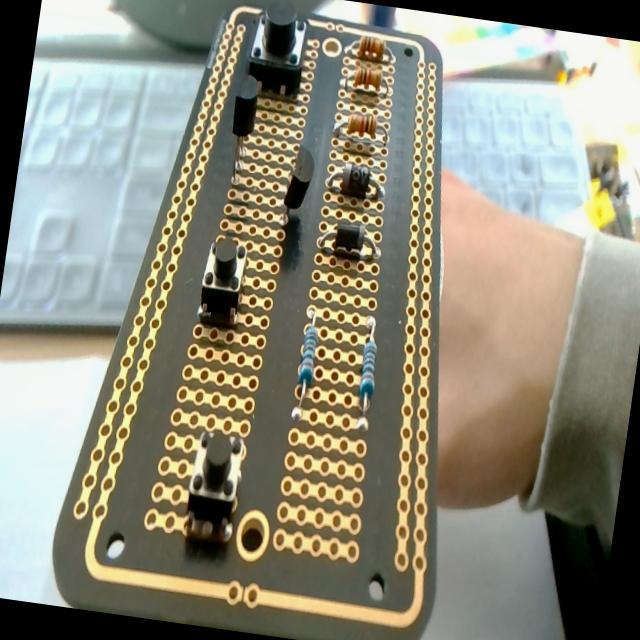diode: (316, 218, 384, 265), (328, 163, 388, 199)
resistor: (350, 312, 386, 431), (290, 306, 324, 423), (332, 120, 390, 154), (344, 66, 390, 100), (348, 34, 394, 65)
switch: (180, 426, 248, 544), (244, 5, 311, 99), (196, 233, 251, 328)
transistor: (224, 75, 262, 184), (282, 140, 318, 216)
